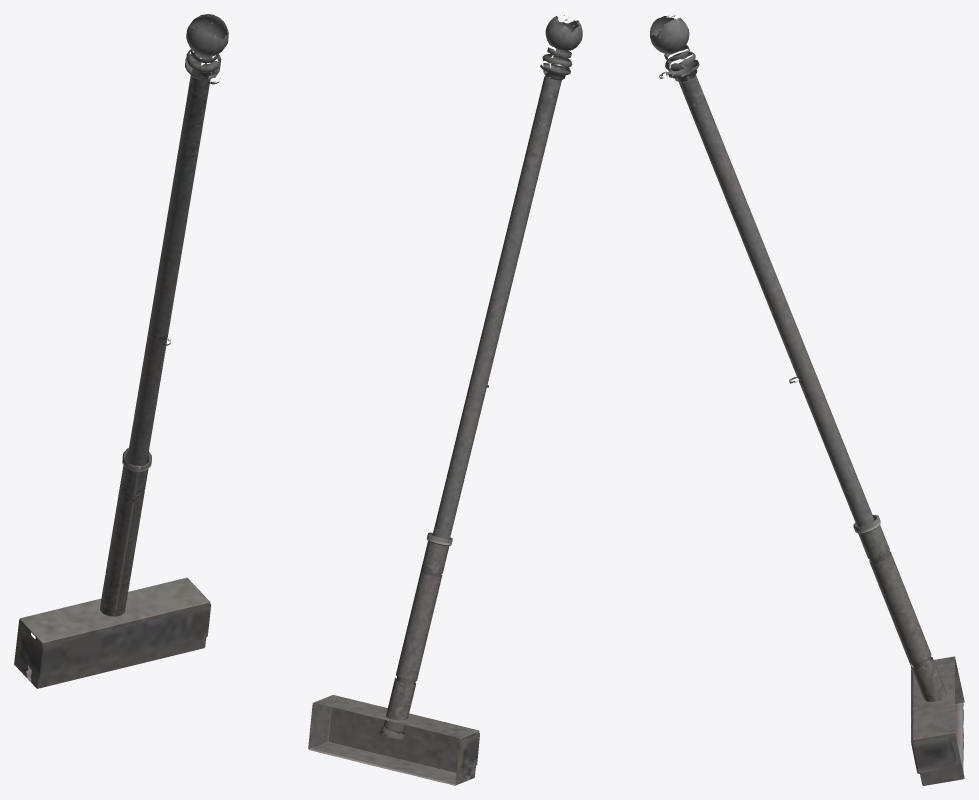
Rendered from sm21_026_rpdflag02a.fbx.
The picture shows the model from 3 angles, left to right: view 1: azimuth 30°, elevation 25°; view 2: azimuth 150°, elevation 25°; view 3: azimuth 270°, elevation 25°; orthographic projection. The views are drawn at different scales.
Parts seen in each view (by area): view 1: LOD_1_Group_2_Sub_1__sm21_026_RpdFlag02A_A_Mat; view 2: LOD_1_Group_2_Sub_1__sm21_026_RpdFlag02A_A_Mat; view 3: LOD_1_Group_2_Sub_1__sm21_026_RpdFlag02A_A_Mat.
Boxes of the visible parts, <box> form: LOD_1_Group_2_Sub_1__sm21_026_RpdFlag02A_A_Mat: <box>14,14,228,688</box>; LOD_1_Group_2_Sub_1__sm21_026_RpdFlag02A_A_Mat: <box>308,15,582,785</box>; LOD_1_Group_2_Sub_1__sm21_026_RpdFlag02A_A_Mat: <box>650,15,964,785</box>.
Bounding box in the file's own units: 82.09 × 368 × 156.
